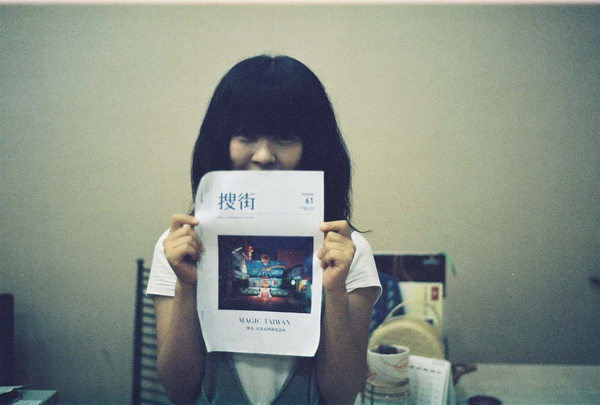face: (224, 110, 307, 203)
